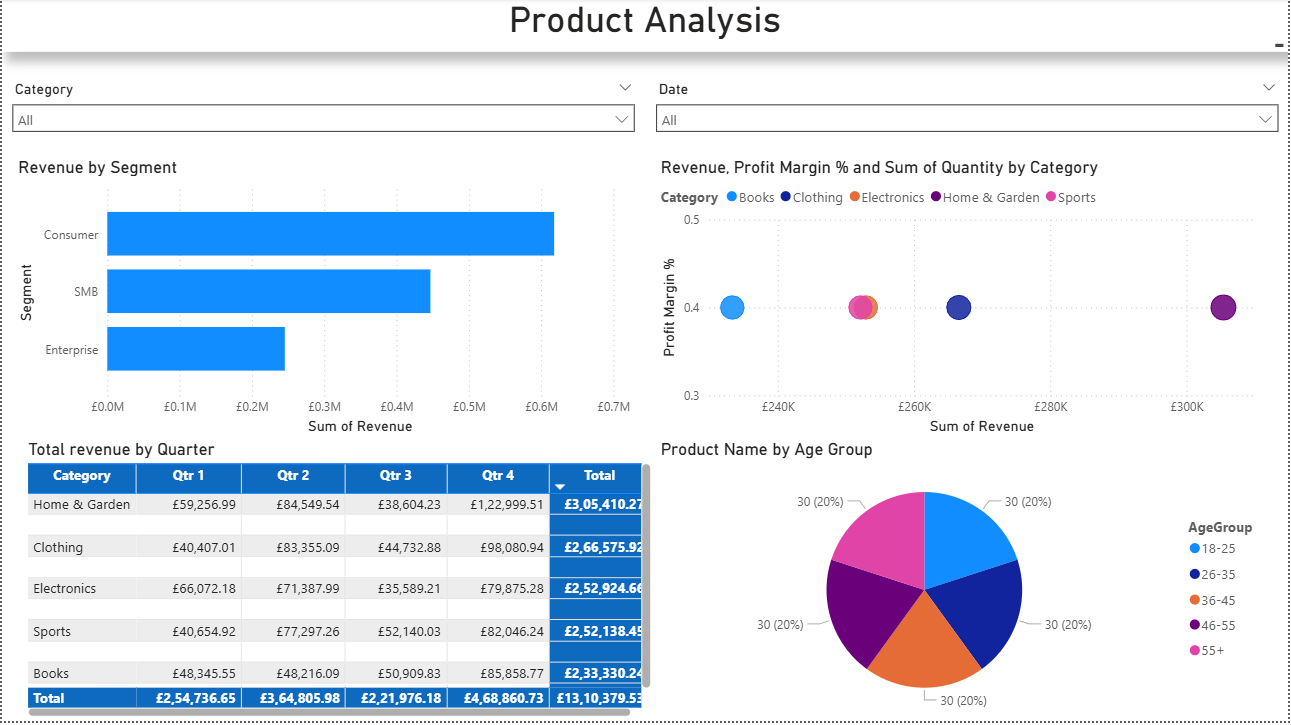

Layout of this report page (visuals, bound fields, positions):
{"tool":"powerbi","page":{"name":"Page 2","canvas":[1280,720],"ordinal":1},"visuals":[{"type":"textbox","title":"Product Analysis","box":[0,0,1280,53.5],"z":0},{"type":"slicer","fields":{"Values":["DimProduct.Category"]},"box":[0,77.1,639.4,80.9],"z":1000},{"type":"slicer","fields":{"Values":["DimDate.Date"]},"box":[640.6,77.1,639.4,80.9],"z":2000},{"type":"pivotTable","title":"Total revenue by Quarter","fields":{"Rows":["DimProduct.Category"],"Values":["Sum(FactSales.Revenue)"],"Columns":["DimDate.Date.Variation.Date Hierarchy.Quarter"]},"box":[21.1,439.1,629.4,281.1],"z":3000},{"type":"clusteredBarChart","title":"Revenue by Segment","fields":{"Y":["Sum(FactSales.Revenue)"],"Category":["DimCustomer.Segment"]},"box":[11.2,158,619.5,281.1],"z":4000},{"type":"scatterChart","title":"Revenue, Profit Margin % and Sum of Quantity by Category","fields":{"X":["Sum(FactSales.Revenue)"],"Y":["FactSales.Profit Margin %"],"Series":["DimProduct.Category"],"Size":["Sum(FactSales.Quantity)"]},"box":[650.6,158,618.2,281.1],"z":5000},{"type":"pieChart","title":"Product Name by Age Group","fields":{"Y":["CountNonNull(DimProduct.ProductName)"],"Category":["DimCustomer.AgeGroup"]},"box":[651,439,618,281],"z":6000}]}

Visuals, with their boxes in screenshot pixels (x1, y1, x2, y2), scaled from the page's 1280x720 canvas onto the 1291x725 screenshot:
"Product Analysis" textbox: {"left": 0, "top": 0, "right": 1290, "bottom": 54}
slicer - DimProduct.Category: {"left": 0, "top": 78, "right": 645, "bottom": 159}
slicer - DimDate.Date: {"left": 646, "top": 78, "right": 1290, "bottom": 159}
"Total revenue by Quarter" pivotTable: {"left": 21, "top": 442, "right": 656, "bottom": 724}
"Revenue by Segment" clusteredBarChart: {"left": 11, "top": 159, "right": 636, "bottom": 442}
"Revenue, Profit Margin % and Sum of Quantity by Category" scatterChart: {"left": 656, "top": 159, "right": 1280, "bottom": 442}
"Product Name by Age Group" pieChart: {"left": 657, "top": 442, "right": 1280, "bottom": 724}
